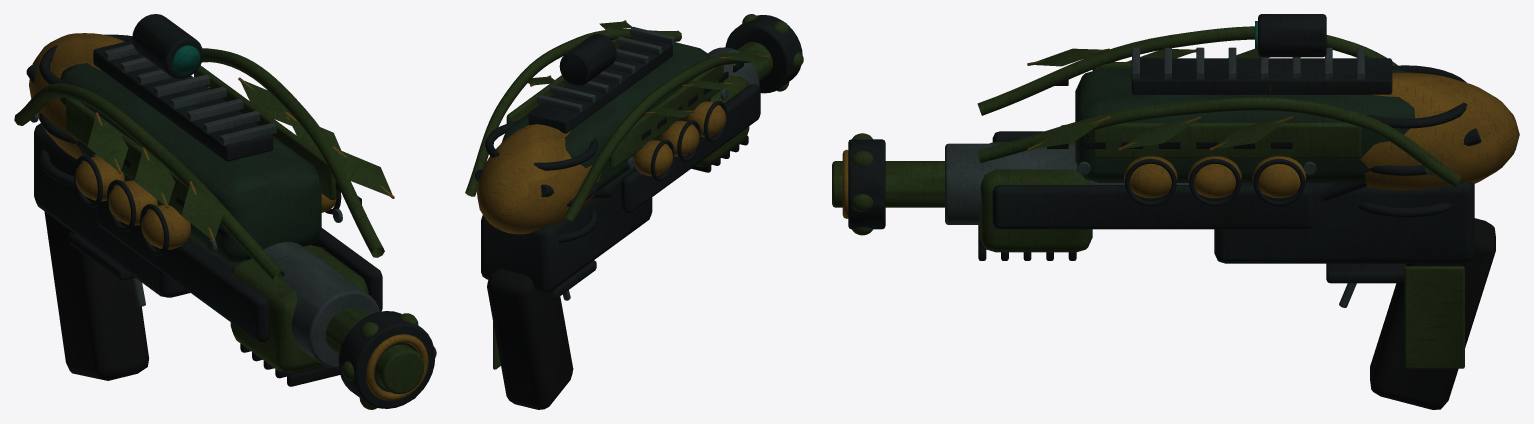
File: PodBurst.glb
The picture shows the model from 3 angles, left to right: view 1: azimuth 30°, elevation 25°; view 2: azimuth 150°, elevation 25°; view 3: azimuth 270°, elevation 25°; orthographic projection. The views are drawn at different scales.
Parts seen in each view (by area): view 1: VIS_CastIron, VIS_LeafOlive, VIS_ForestCeramic, VIS_Rubber, VIS_WetSteel, VIS_SeedAmber, VIS_OpticCyan; view 2: VIS_CastIron, VIS_LeafOlive, VIS_SeedAmber, VIS_Rubber, VIS_ForestCeramic, VIS_WetSteel; view 3: VIS_CastIron, VIS_LeafOlive, VIS_SeedAmber, VIS_ForestCeramic, VIS_Rubber, VIS_WetSteel.
Part boxes in pixels (x1,y1,x2,y2): VIS_CastIron: [26, 14, 435, 408]; VIS_LeafOlive: [14, 48, 436, 409]; VIS_ForestCeramic: [60, 63, 321, 262]; VIS_Rubber: [44, 158, 361, 386]; VIS_WetSteel: [30, 44, 379, 368]; VIS_SeedAmber: [29, 33, 428, 400]; VIS_OpticCyan: [172, 45, 199, 74]; VIS_CastIron: [475, 15, 802, 299]; VIS_LeafOlive: [465, 14, 803, 369]; VIS_SeedAmber: [477, 20, 770, 234]; VIS_Rubber: [487, 60, 748, 409]; VIS_ForestCeramic: [502, 42, 710, 194]; VIS_WetSteel: [537, 26, 759, 300]; VIS_CastIron: [848, 14, 1481, 283]; VIS_LeafOlive: [832, 26, 1464, 368]; VIS_SeedAmber: [842, 48, 1519, 218]; VIS_ForestCeramic: [1075, 69, 1414, 182]; VIS_Rubber: [978, 80, 1495, 409]; VIS_WetSteel: [945, 47, 1434, 307].
Size of the model in its own units: 0.2574 by 0.4911 by 0.792.
Materials: 7 (7 with a texture image).
